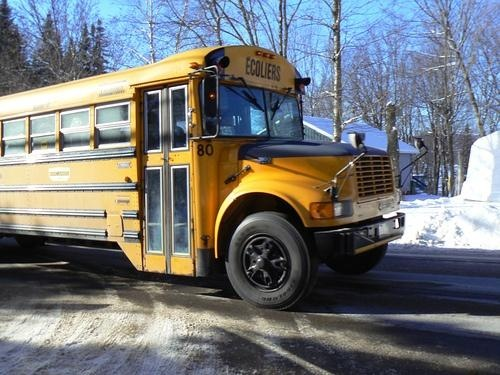bus: (1, 45, 406, 310)
